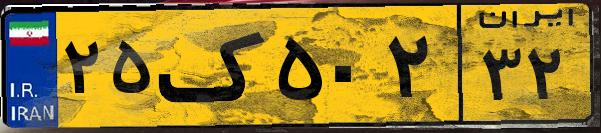0: (330, 28, 385, 110)
2: (385, 28, 445, 110), (57, 26, 110, 100), (525, 38, 570, 115)
3: (475, 38, 525, 113)
5: (270, 28, 330, 110), (110, 28, 158, 98)
ک: (158, 12, 270, 120)
